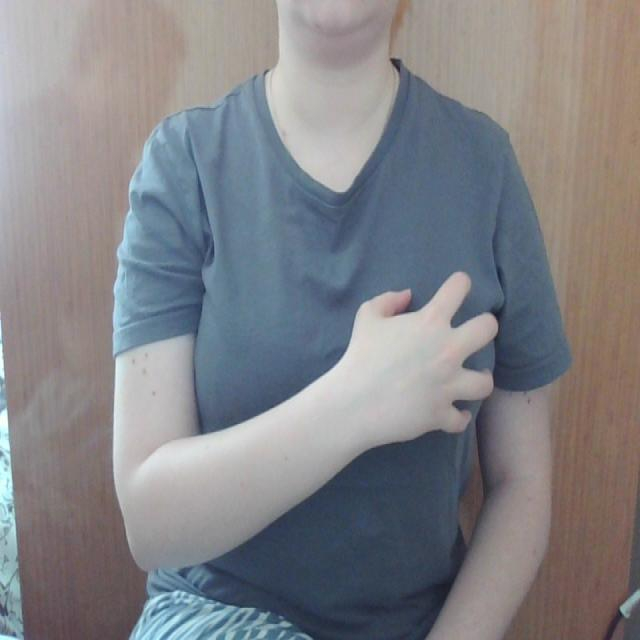Anne: (186, 256, 555, 462)
